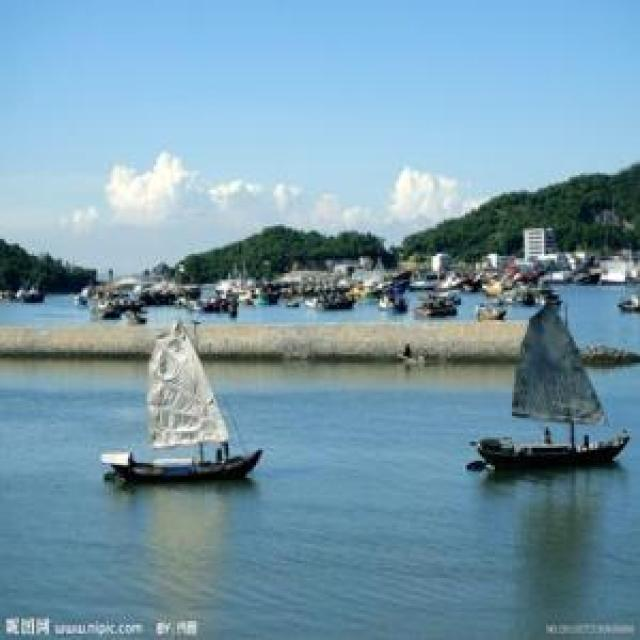sailboat: (468, 294, 631, 469), (97, 316, 255, 488)
